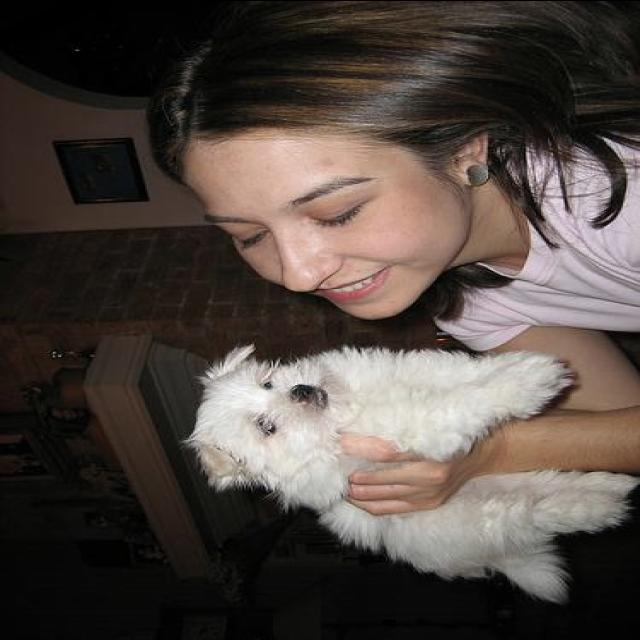maltese_dog: (183, 342, 636, 604)
